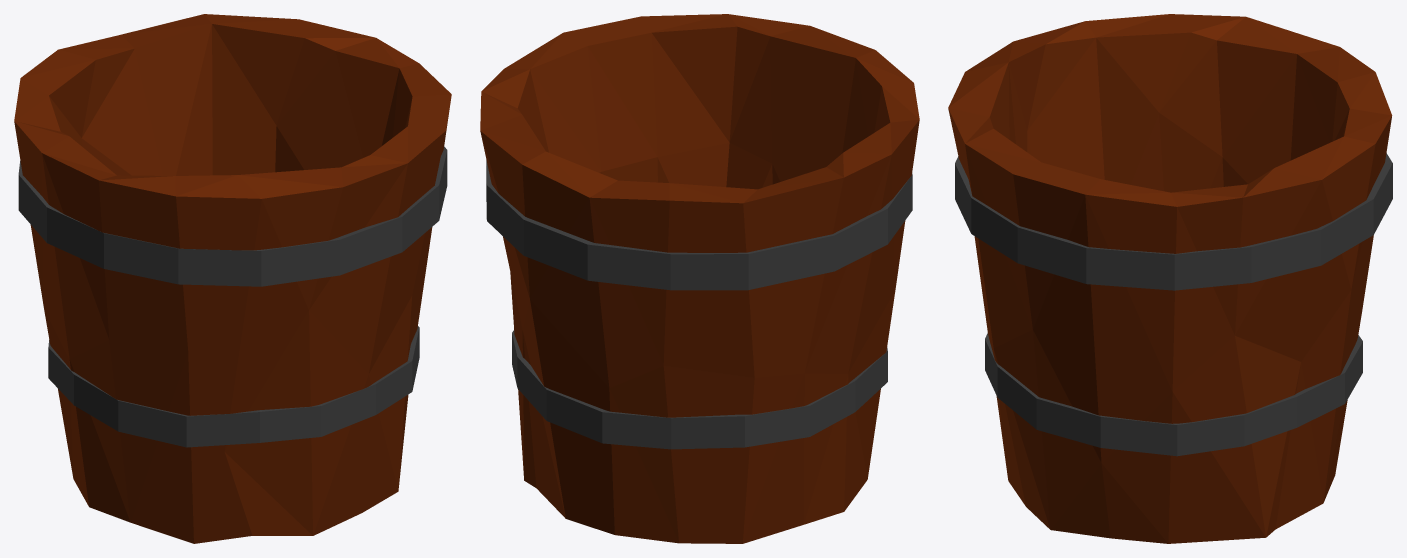
File: Bucket.fbx
3 renders of one model, left to right at view 1: azimuth 30°, elevation 25°; view 2: azimuth 150°, elevation 25°; view 3: azimuth 270°, elevation 25°, orthographic.
Parts seen in each view (by area): view 1: Bucket, Rim; view 2: Bucket, Rim; view 3: Bucket, Rim.
Boxes of the visible parts, <box> form: Bucket: <box>14,14,451,543</box>; Rim: <box>18,146,447,447</box>; Bucket: <box>480,14,919,543</box>; Rim: <box>486,160,912,449</box>; Bucket: <box>948,14,1392,543</box>; Rim: <box>955,153,1392,456</box>.
Size of the model in its own units: 183 by 174 by 184.
